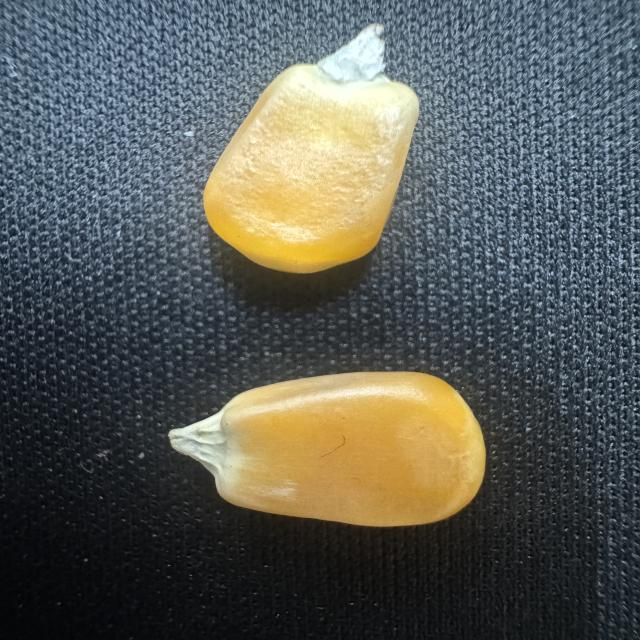Good-Seed: (193, 18, 424, 277), (153, 367, 500, 536)
